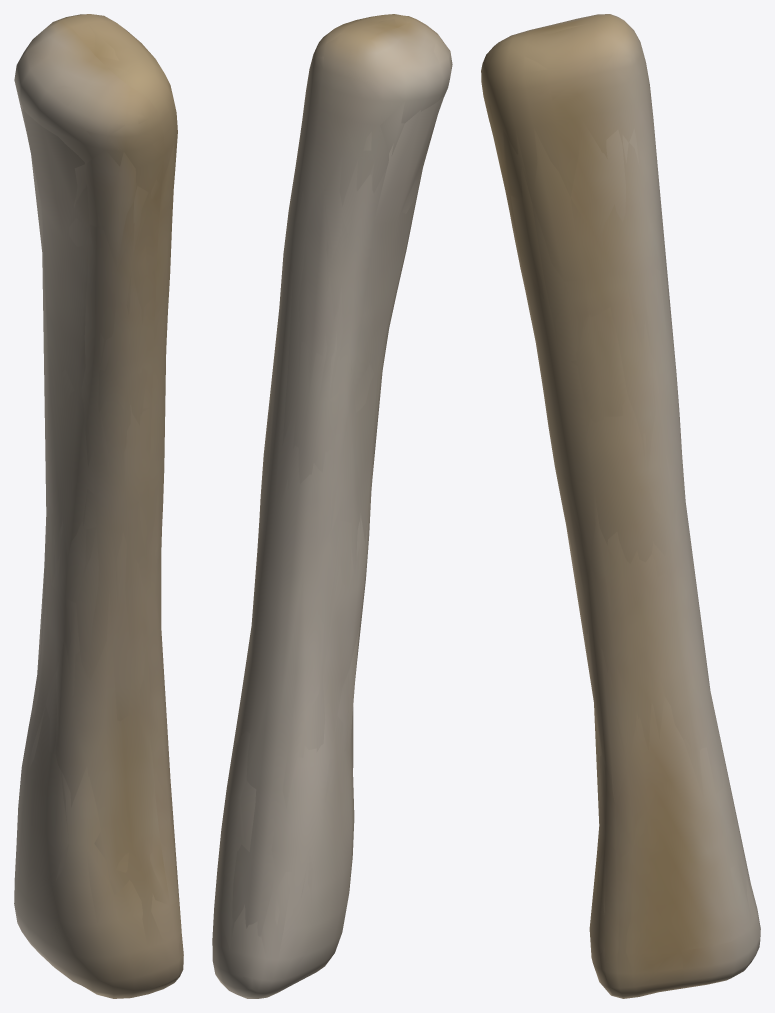
File: L metacarpi secundum.fbx
The picture shows the model from 3 angles, left to right: view 1: azimuth 30°, elevation 25°; view 2: azimuth 150°, elevation 25°; view 3: azimuth 270°, elevation 25°; orthographic projection. The views are drawn at different scales.
Parts seen in each view (by area): view 1: L metacarpi secundum high, L metacarpi secundum low, L metacarpi secundum; view 2: L metacarpi secundum high, L metacarpi secundum low, L metacarpi secundum; view 3: L metacarpi secundum high, L metacarpi secundum, L metacarpi secundum low.
Part boxes in pixels (<box>): L metacarpi secundum high: <box>14,14,183,998</box>; L metacarpi secundum low: <box>22,108,174,894</box>; L metacarpi secundum: <box>14,14,183,997</box>; L metacarpi secundum high: <box>212,14,452,998</box>; L metacarpi secundum low: <box>232,97,443,936</box>; L metacarpi secundum: <box>213,16,452,998</box>; L metacarpi secundum high: <box>481,14,760,998</box>; L metacarpi secundum: <box>481,14,760,998</box>; L metacarpi secundum low: <box>494,140,750,896</box>.
Size of the model in its own units: 1.1 by 5.97 by 1.61.
